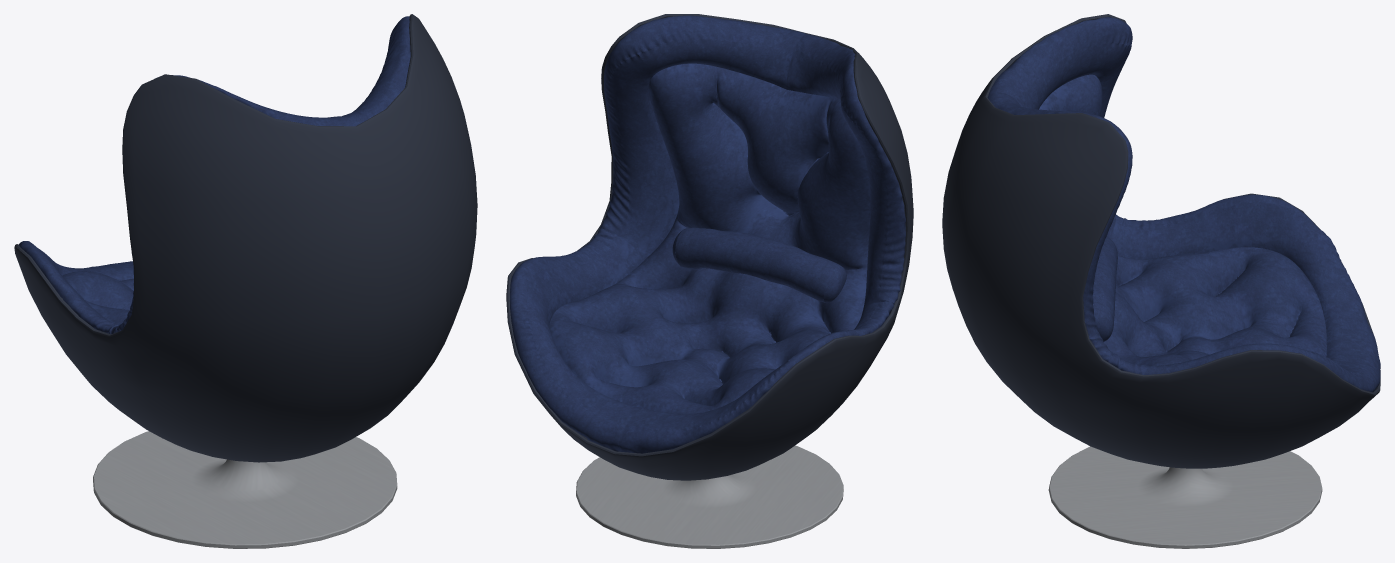
File: egg_chair.glb
3 renders of one model, left to right at view 1: azimuth 30°, elevation 25°; view 2: azimuth 150°, elevation 25°; view 3: azimuth 270°, elevation 25°, orthographic. The views are drawn at different scales.
Visible parts, largest first — view 1: Framme_low, Cushion; view 2: Cushion, Framme_low; view 3: Framme_low, Cushion.
Part boxes in pixels (x1,y1,x2,y2): Framme_low: (14, 14, 477, 548); Cushion: (19, 16, 410, 334); Cushion: (510, 15, 905, 453); Framme_low: (506, 14, 913, 548); Framme_low: (942, 14, 1380, 548); Cushion: (987, 17, 1380, 392).
Bounding box in the file's own units: 0.8285 × 1.03 × 0.9594.
1 material, 1 textured.
